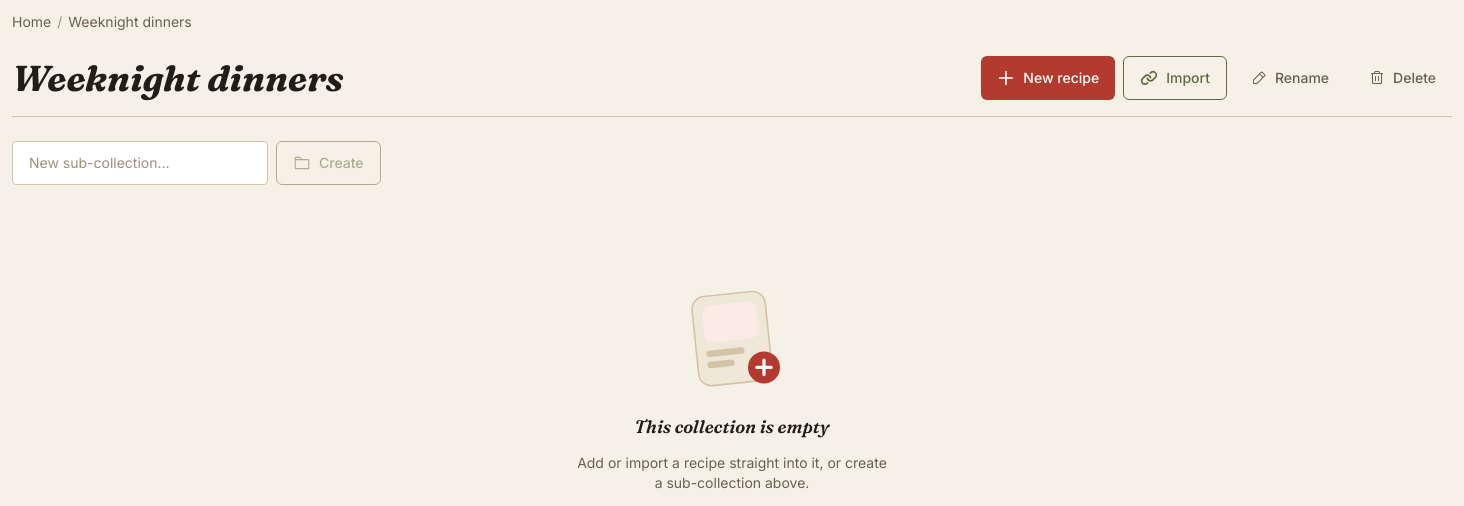
Test case: CollectionsPage — a collection (/collections/:id) › renames a collection
This screenshot has width=1464, height=506.
Expected: the heading "Weeknight dinners" is shown, [12, 58, 343, 98]
Click the button "Rename".
click(1290, 78)  # box [1235, 56, 1345, 100]
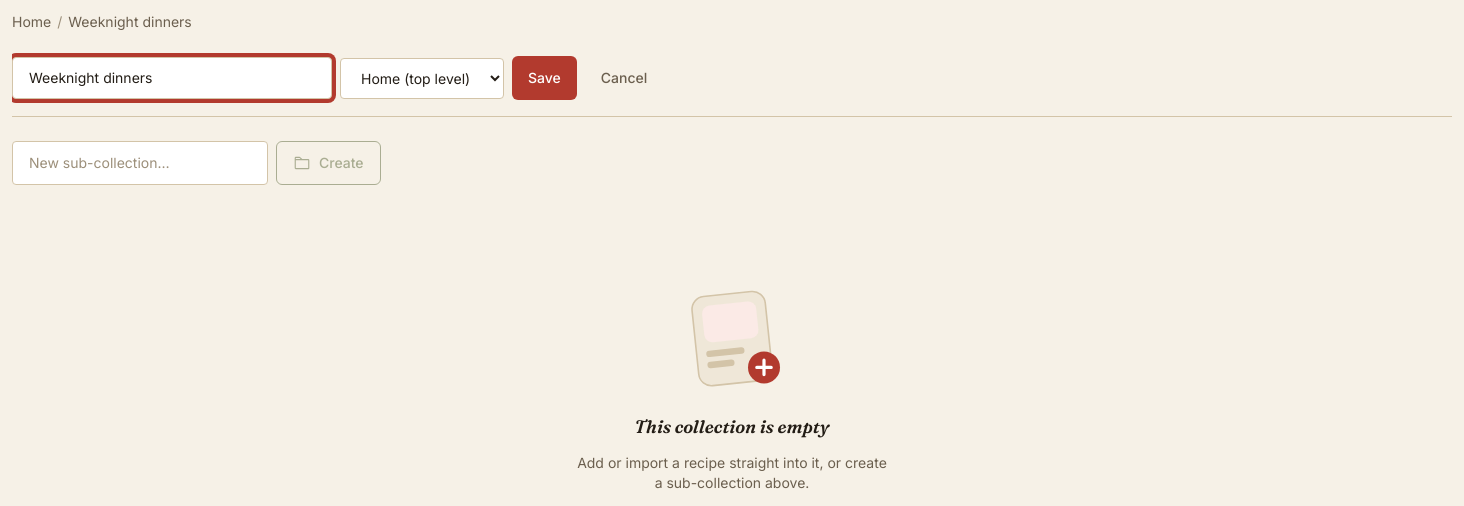
Replace the text in the field showing "Weeknight dinners" with "Quick dinners" at [172, 78], box [12, 57, 332, 99]
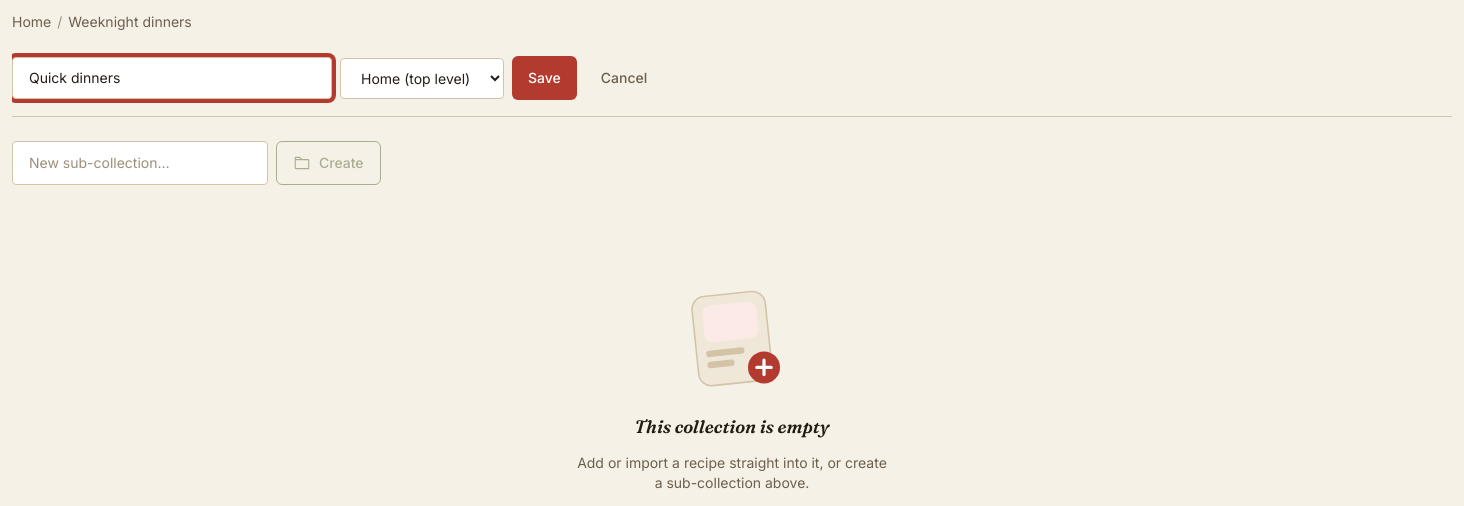
Click the button "Save".
click(544, 78)  # box [512, 56, 577, 100]
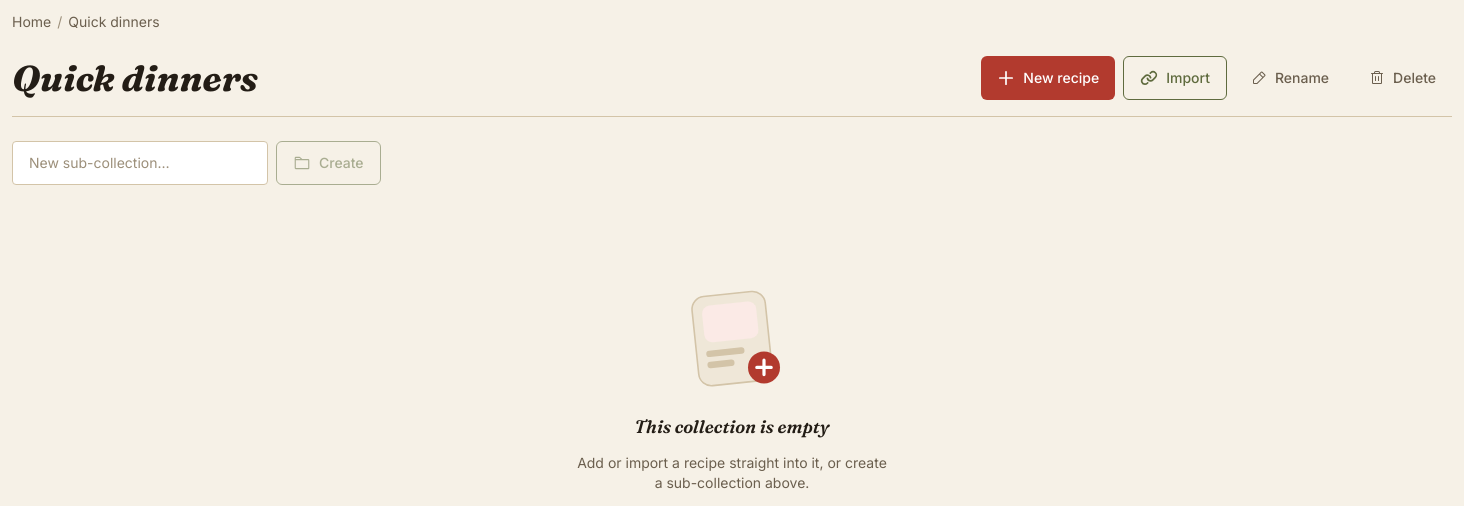
Now the heading "Quick dinners" is shown, box [12, 58, 258, 98]
